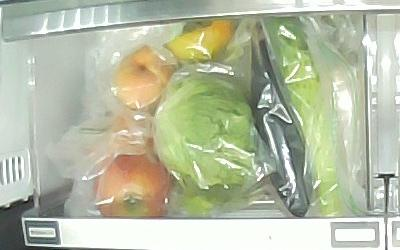apple_vinyl: (92, 153, 170, 219)
cucumber_vinyl: (260, 18, 339, 216)
eggplant_vinyl: (250, 23, 312, 218)
lettuce_vinyl: (152, 72, 257, 191)
peach_vinyl: (114, 46, 177, 109)
persimmon_vinyl: (162, 18, 237, 63)
